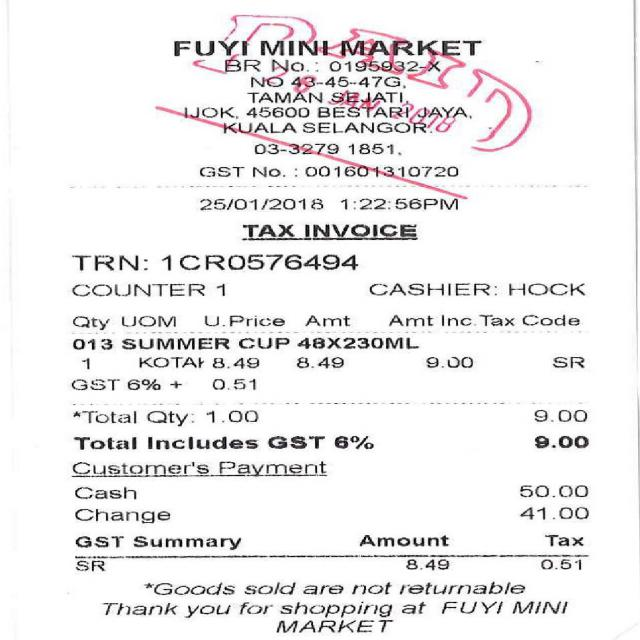text: (162, 254, 357, 271), (340, 40, 478, 55), (303, 165, 459, 177), (71, 461, 208, 474), (280, 601, 391, 617), (70, 283, 203, 296), (398, 581, 524, 594), (275, 619, 392, 633), (219, 461, 326, 476), (360, 533, 448, 551), (304, 222, 415, 236), (147, 436, 257, 450), (368, 283, 496, 295), (293, 337, 420, 349), (132, 536, 240, 550), (198, 198, 322, 210), (120, 336, 232, 349), (73, 508, 169, 523), (339, 198, 456, 210), (314, 106, 410, 120), (304, 122, 424, 133), (70, 378, 180, 390), (70, 254, 146, 270), (329, 60, 439, 71), (292, 76, 400, 87), (144, 582, 234, 595), (172, 40, 246, 55), (259, 40, 327, 55), (518, 506, 588, 520), (101, 602, 176, 615), (252, 143, 338, 154), (246, 92, 323, 104), (507, 283, 584, 295), (72, 410, 137, 424), (205, 315, 285, 326), (331, 91, 404, 103), (441, 600, 502, 614), (220, 122, 296, 133), (199, 408, 258, 422), (242, 224, 293, 240), (73, 436, 135, 449), (73, 486, 135, 499), (520, 485, 586, 497), (511, 600, 566, 614), (532, 408, 585, 422), (147, 409, 188, 427), (122, 315, 177, 328), (245, 108, 309, 119), (138, 356, 202, 367), (534, 435, 588, 448), (520, 314, 578, 326), (266, 436, 324, 448), (417, 106, 471, 118), (182, 106, 234, 118), (243, 582, 294, 594), (238, 336, 285, 349), (72, 315, 109, 331), (184, 604, 229, 617), (74, 536, 122, 548), (199, 165, 243, 178), (295, 356, 342, 368), (212, 357, 258, 369), (334, 435, 372, 449), (538, 558, 582, 570), (389, 315, 431, 327), (405, 558, 447, 570), (349, 143, 394, 154), (304, 315, 349, 326), (426, 356, 471, 367), (350, 582, 390, 594), (211, 378, 254, 389), (224, 59, 260, 72), (481, 314, 517, 327), (72, 338, 111, 350), (544, 534, 582, 546), (269, 58, 302, 71), (239, 601, 272, 614), (301, 584, 342, 594), (439, 314, 471, 326), (251, 76, 282, 88), (553, 356, 583, 368), (400, 600, 424, 614), (251, 166, 281, 177), (75, 560, 104, 571), (215, 284, 224, 296), (81, 357, 88, 369)
